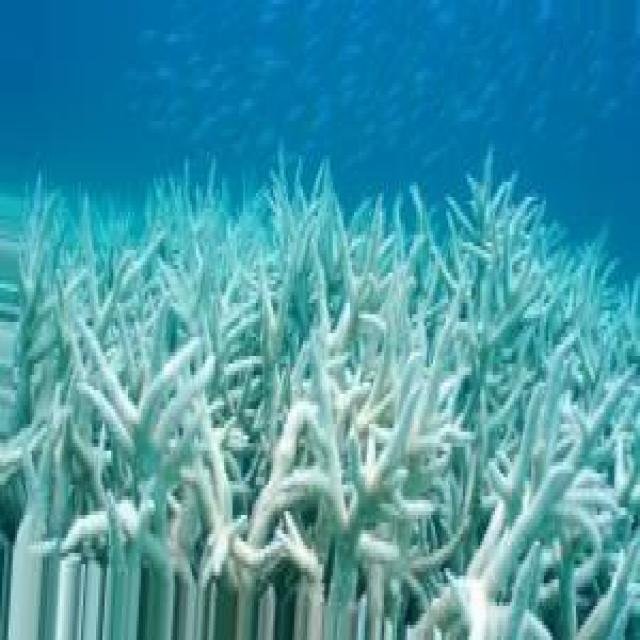bleached coral: (58, 193, 220, 284), (233, 504, 324, 640), (134, 337, 215, 436), (32, 424, 102, 538), (350, 360, 405, 496), (279, 329, 326, 462), (459, 341, 506, 451), (471, 526, 527, 606), (201, 420, 237, 530), (567, 439, 602, 481)
healthy coral: (292, 170, 352, 322), (518, 220, 612, 299), (546, 329, 617, 405), (354, 223, 420, 295), (425, 208, 459, 265)
